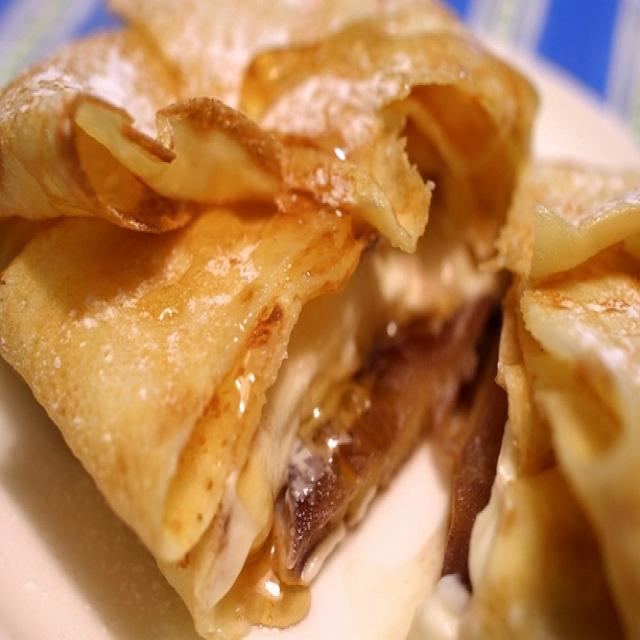蛋糕甜品: (23, 20, 599, 630)
